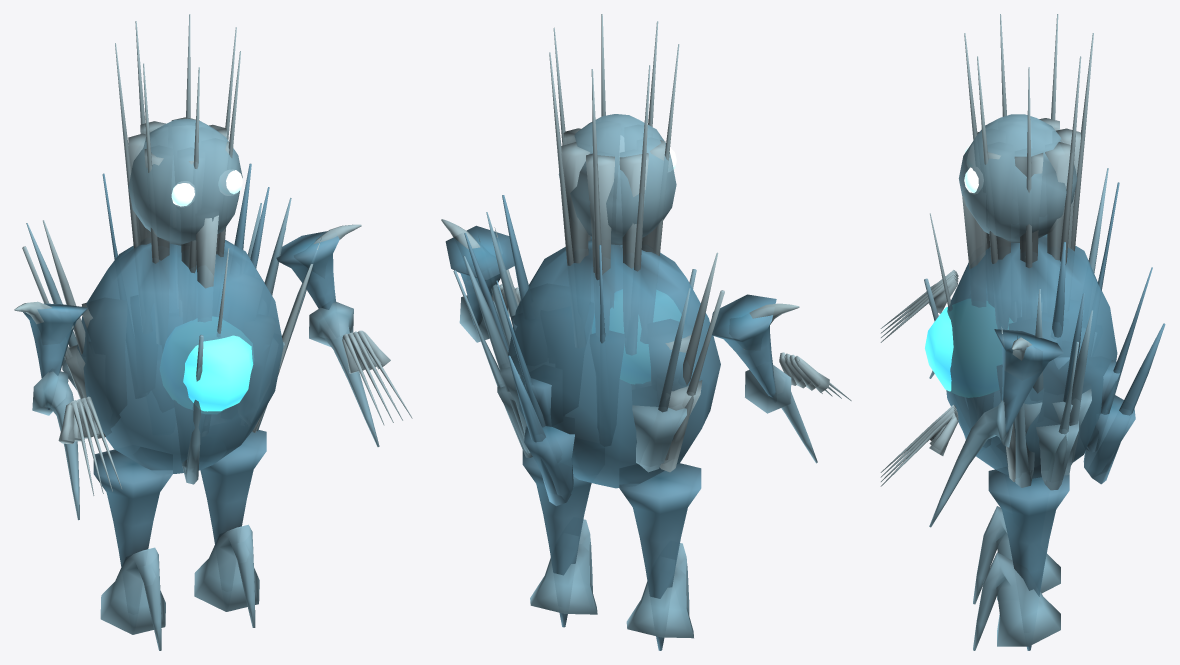
The picture shows the model from 3 angles, left to right: view 1: azimuth 30°, elevation 25°; view 2: azimuth 150°, elevation 25°; view 3: azimuth 270°, elevation 25°; orthographic projection. The views are drawn at different scales.
Parts seen in each view (by area): view 1: torso, head, legR, legL, armL, armR; view 2: torso, head, legR, armR, legL, armL; view 3: torso, head, legL, armL, legR, armR.
Boxes of the visible parts, x1,y1,x2,y2 form: torso: (22,163,321,484); head: (115,14,242,333); legR: (93,449,172,650); legL: (194,430,266,627); armL: (276,224,412,446); armR: (14,301,121,520); torso: (453,195,724,505); head: (549,14,679,280); legR: (619,463,701,650); armR: (712,294,851,463); legL: (522,450,597,627); armL: (441,219,520,342); torso: (924,168,1165,490); head: (930,14,1093,307); legL: (973,469,1069,650); armL: (880,329,1063,527); legR: (973,506,1060,604); armR: (880,270,958,378).
Size of the model in its own units: 0.7411 by 1.18 by 0.5187.
